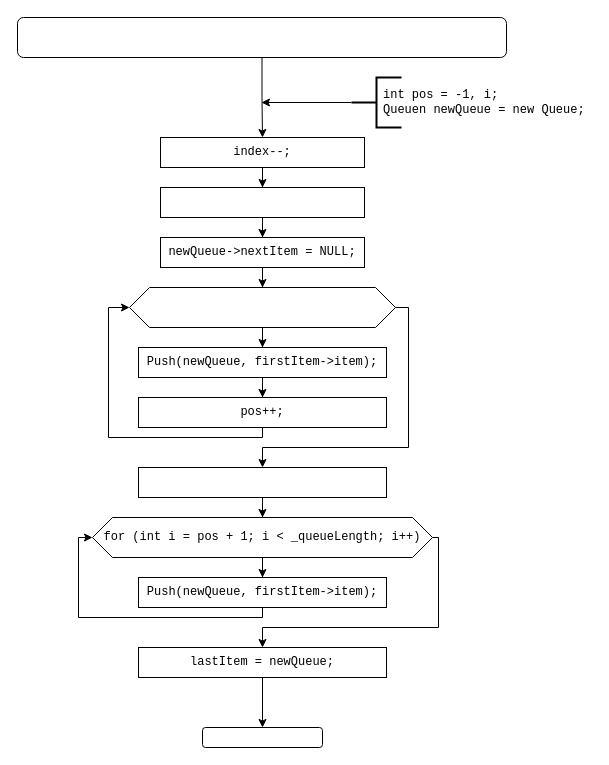
Image size: 609x765. Some labels were removed from this diagram. Each missing label, with the centre of its shape:
for (i = 0; i < index; i++): point (262, 307)
newQueue->item = "";: point (262, 202)
Push(newQueue, "KONICHIWA");: point (262, 482)
void AddNewItem(Queue*& firstItem, Queue*& lastItem, int index): point (261, 37)
